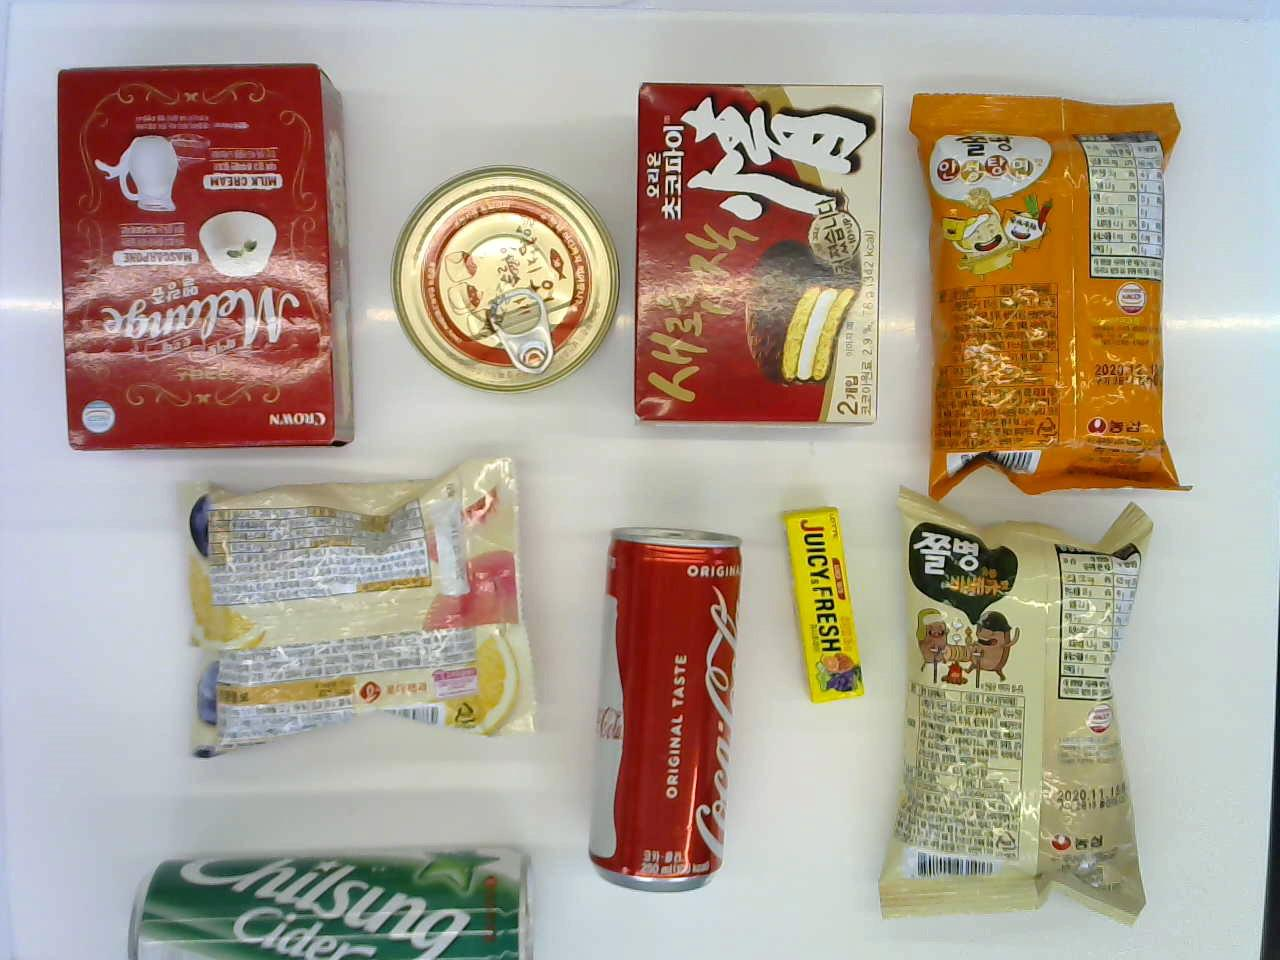chocopie: (627, 69, 885, 425)
cidar: (118, 828, 534, 960)
coke: (573, 495, 751, 896)
couque_white: (49, 55, 352, 456)
gumi_gumi: (180, 474, 541, 753)
jjolbyung_noodle: (918, 85, 1187, 498)
jjolbyung_ori: (880, 497, 1149, 910)
juicyfresh: (767, 495, 879, 702)
tuna: (395, 157, 615, 396)
